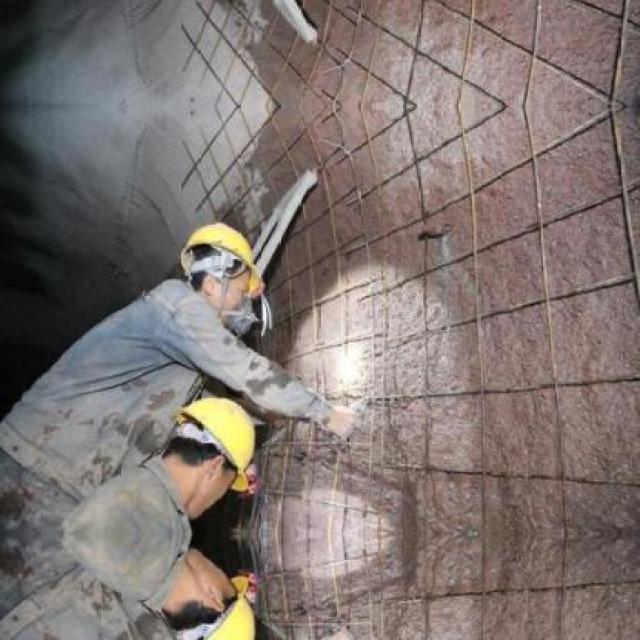helmet: (150, 387, 268, 518), (149, 546, 269, 637), (172, 208, 262, 316)
